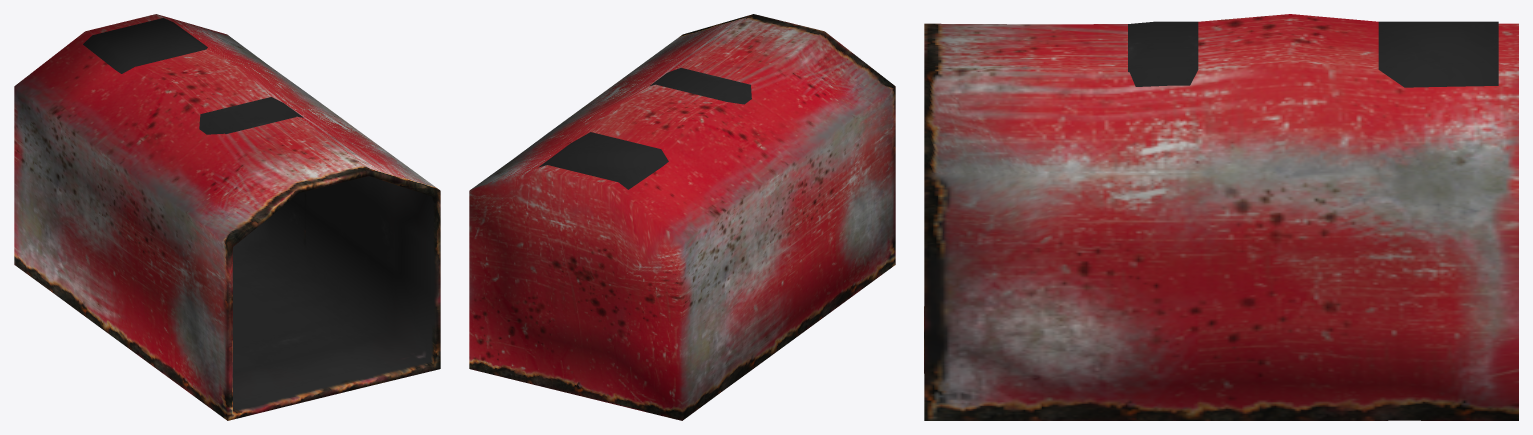
File: mailboxLoPolyVersion.fbx
3 views of the same model, side by side, from view 1: azimuth 30°, elevation 25°; view 2: azimuth 150°, elevation 25°; view 3: azimuth 270°, elevation 25° (orthographic). The views are drawn at different scales.
Visible parts, largest first — view 1: mailbox; view 2: mailbox; view 3: mailbox.
Boxes of the visible parts, box(x1,y1,x2,y2) form: mailbox: box(14, 14, 440, 420); mailbox: box(469, 14, 895, 420); mailbox: box(924, 14, 1518, 420).
Size of the model in its own units: 500 by 500 by 868.
1 material, 1 textured.
